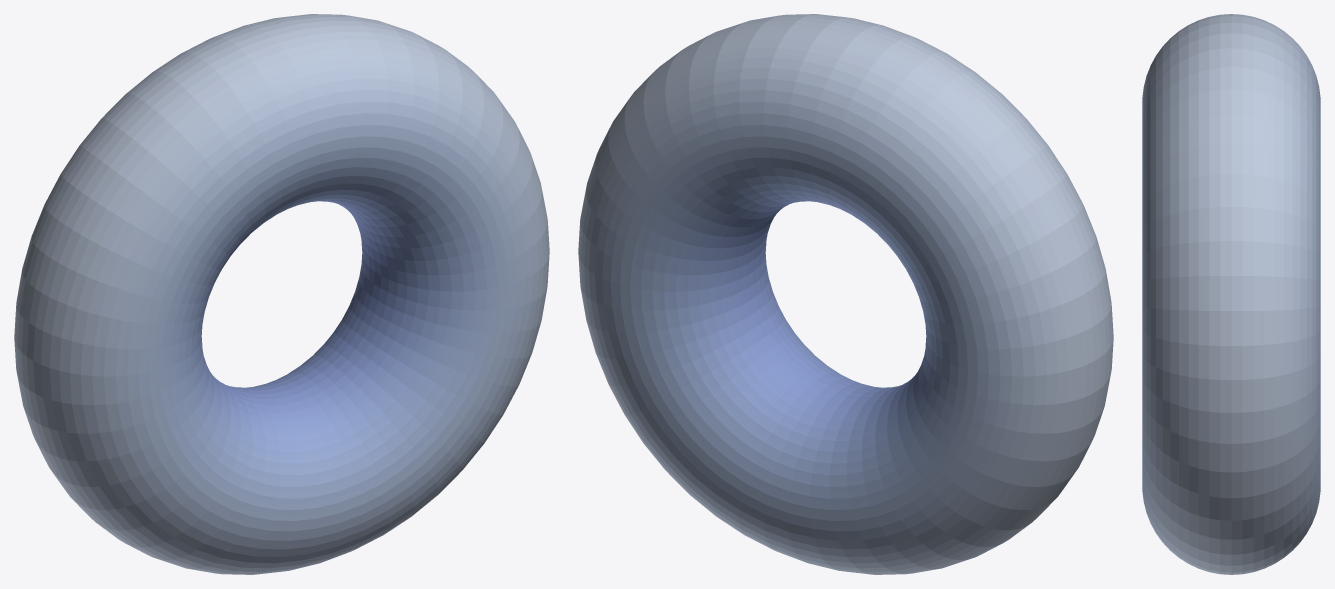
3 renders of one model, left to right at view 1: azimuth 30°, elevation 25°; view 2: azimuth 150°, elevation 25°; view 3: azimuth 270°, elevation 25°, orthographic. The views are drawn at different scales.
Parts seen in each view (by area): view 1: world; view 2: world; view 3: world.
Boxes of the visible parts, box(x1,y1,x2,y2) form: world: box(14, 14, 549, 574); world: box(578, 14, 1113, 574); world: box(1142, 14, 1320, 574).
Size of the model in its own units: 20.53 by 20.49 by 6.52.
